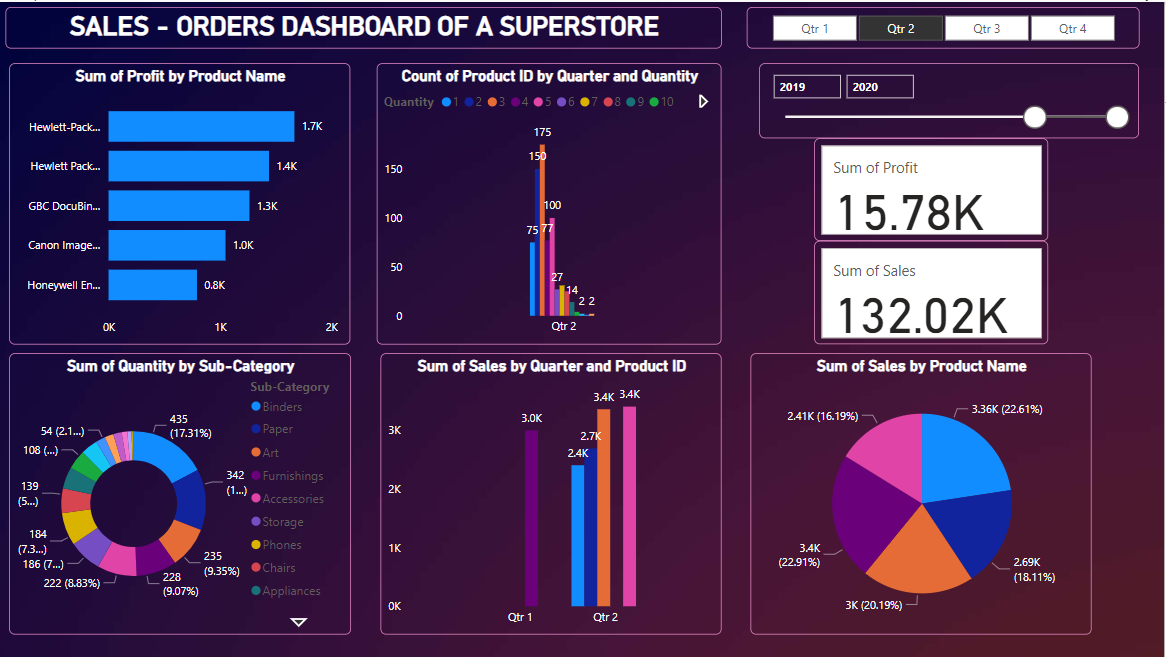

The page's visual inventory and layout, read from the dashboard file:
{"tool":"powerbi","page":{"name":"Superstore Dashborad","canvas":[1280,720],"ordinal":0},"visuals":[{"type":"barChart","fields":{"Y":["Sum(Orders.Profit)"],"Category":["Orders.Product Name"]},"box":[12.3,67.2,374.6,308.7],"z":0},{"type":"donutChart","fields":{"Y":["Sum(Orders.Quantity)"],"Category":["Orders1.Sub-Category"]},"box":[12,386,375,309],"z":1000},{"type":"slicer","fields":{"Values":["Orders1.Ship Date.Variation.Date Hierarchy.Quarter"]},"box":[822,5.5,430.9,45.3],"z":2000},{"type":"clusteredColumnChart","fields":{"Category":["Orders.Ship Date.Variation.Date Hierarchy.Quarter"],"Y":["CountNonNull(Orders.Product ID)"],"Series":["Orders.Quantity"]},"box":[415.8,67.2,378.7,308.7],"z":3000},{"type":"clusteredColumnChart","fields":{"Category":["Orders1.Order Date.Variation.Date Hierarchy.Quarter"],"Y":["Sum(Orders1.Sales)"],"Series":["Orders1.Product ID"]},"box":[419.9,385.6,374.6,308.7],"z":4000},{"type":"textbox","title":"SALES - ORDERS DASHBOARD OF A SUPERSTORE","box":[8.2,5.5,786.3,45.3],"z":5000},{"type":"cardVisual","fields":{"Data":["Sum(Orders.Sales)"]},"box":[896.1,262.1,256.6,113.9],"z":6000},{"type":"cardVisual","fields":{"Data":["Sum(Orders1.Profit)"]},"box":[896.1,149.6,256.6,112.5],"z":7000},{"type":"pieChart","fields":{"Category":["Orders.Product Name","Orders1.Ship Date.Variation.Date Hierarchy.Quarter"],"Y":["Sum(Orders.Sales)"]},"box":[826.1,385.6,374.6,308.7],"z":8000},{"type":"slicer","fields":{"Values":["Orders.Ship Date.Variation.Date Hierarchy.Year"]},"box":[835.7,67.2,417.2,82.3],"z":9001}]}

Visuals, with their boxes in screenshot pixels (x1, y1, x2, y2), scaled from the page's 1280x720 canvas onto the 1166x657 screenshot:
barChart - Sum(Orders.Profit) x Orders.Product Name: x1=11, y1=61, x2=352, y2=343
donutChart - Sum(Orders.Quantity) x Orders1.Sub-Category: x1=11, y1=352, x2=353, y2=634
slicer - Orders1.Ship Date.Variation.Date Hierarchy.Quarter: x1=749, y1=5, x2=1141, y2=46
clusteredColumnChart - Orders.Ship Date.Variation.Date Hierarchy.Quarter x CountNonNull(Orders.Product ID): x1=379, y1=61, x2=724, y2=343
clusteredColumnChart - Orders1.Order Date.Variation.Date Hierarchy.Quarter x Sum(Orders1.Sales): x1=383, y1=352, x2=724, y2=634
"SALES - ORDERS DASHBOARD OF A SUPERSTORE" textbox: x1=7, y1=5, x2=724, y2=46
cardVisual - Sum(Orders.Sales): x1=816, y1=239, x2=1050, y2=343
cardVisual - Sum(Orders1.Profit): x1=816, y1=137, x2=1050, y2=239
pieChart - Orders.Product Name x Orders1.Ship Date.Variation.Date Hierarchy.Quarter: x1=753, y1=352, x2=1094, y2=634
slicer - Orders.Ship Date.Variation.Date Hierarchy.Year: x1=761, y1=61, x2=1141, y2=136
